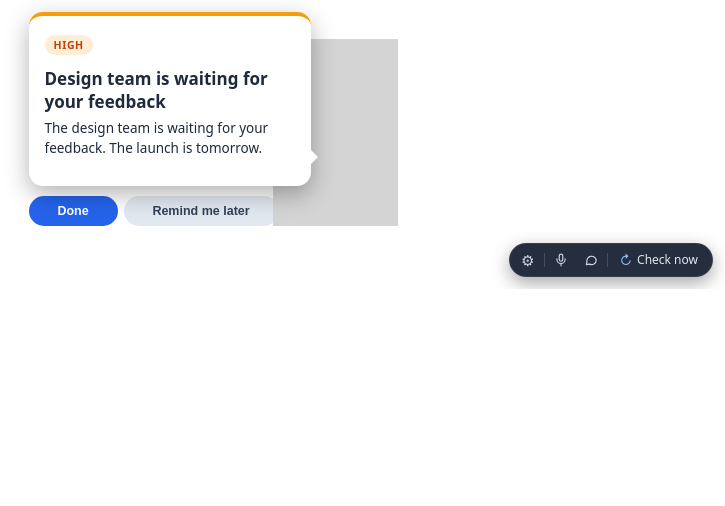
Test case: desktop overlay › chat with Zara (ADR-006 M2) › sends a message and shows Zara's streamed reply, tool status included
Expected: the element with test id "intervention-card" is shown, 28,12 -> 398,226
Click the button named "Chat with Zara" at (591, 260), box 577,247 -> 605,273
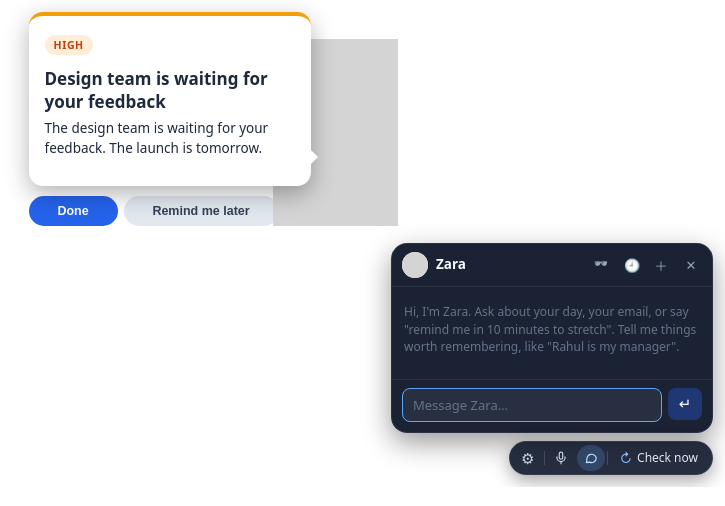
Type "what's on today?" into the field labelled "Message Zara" at (532, 405), box 402,388 -> 662,422
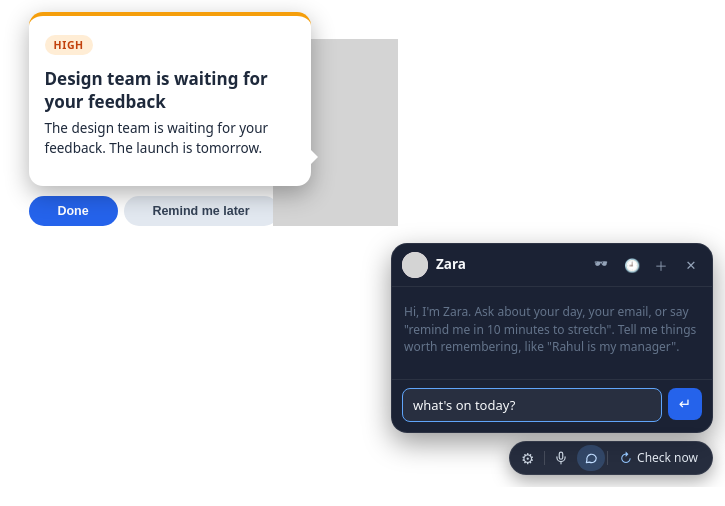
Press Enter in the field named "Message Zara", box 402,388 -> 662,422
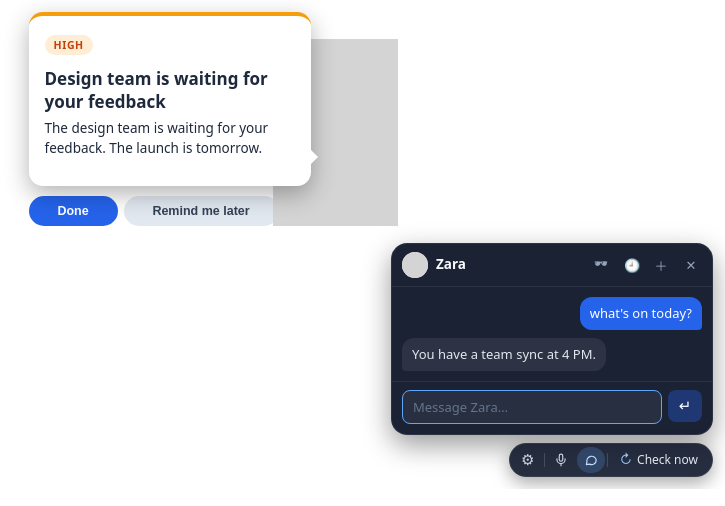
Now the text "You have a team sync at 4 PM." is shown, box 402,338 -> 606,371
Now the text "what's on today?" is shown, box 580,297 -> 702,330
Now the field labelled "Message Zara" is empty, box 402,390 -> 662,424
